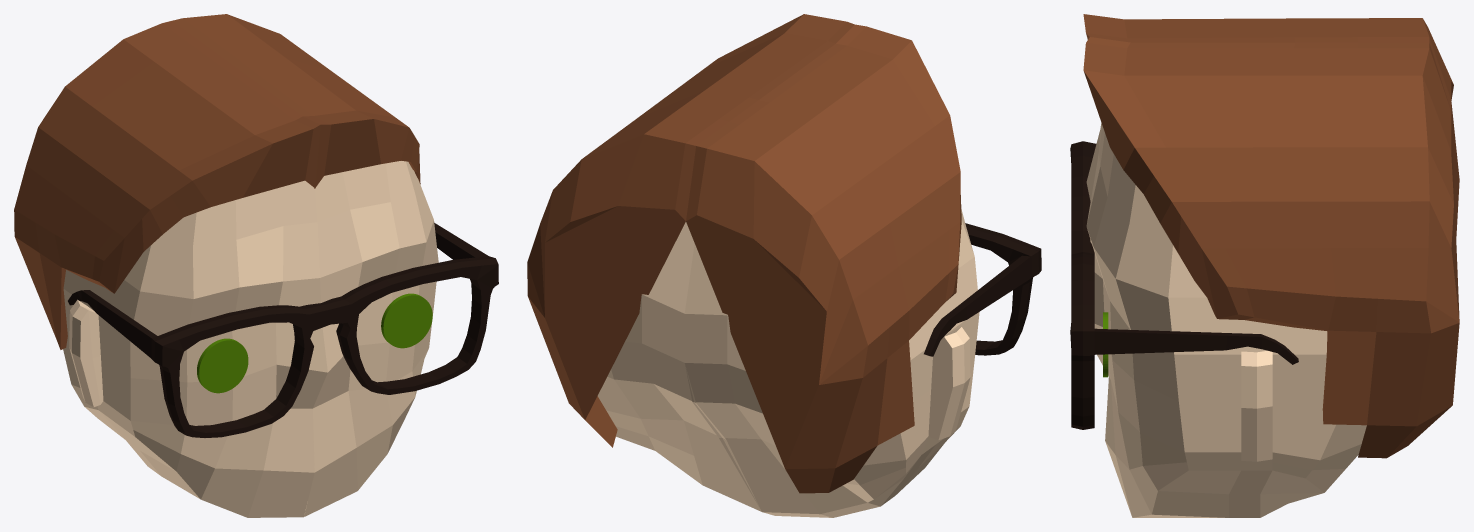
Rendered from face_jag.glb.
The picture shows the model from 3 angles, left to right: view 1: azimuth 30°, elevation 25°; view 2: azimuth 150°, elevation 25°; view 3: azimuth 270°, elevation 25°; orthographic projection. The views are drawn at different scales.
Parts seen in each view (by area): view 1: glasses, hair, Glasses, Eye_left, Eye_right; view 2: hair, glasses, Glasses; view 3: hair, glasses, Glasses.
Part boxes in pixels (x1,y1,x2,y2): glasses: (63, 161, 438, 517); hair: (14, 14, 420, 349); Glasses: (68, 223, 498, 437); Eye_left: (381, 293, 432, 348); Eye_right: (197, 338, 248, 393); hair: (527, 14, 961, 493); glasses: (597, 209, 979, 517); Glasses: (924, 223, 1041, 356); hair: (1083, 14, 1459, 458); glasses: (1086, 123, 1366, 517); Glasses: (1070, 141, 1298, 429).
Bounding box in the file's own units: 3.27 × 3.59 × 2.74.
